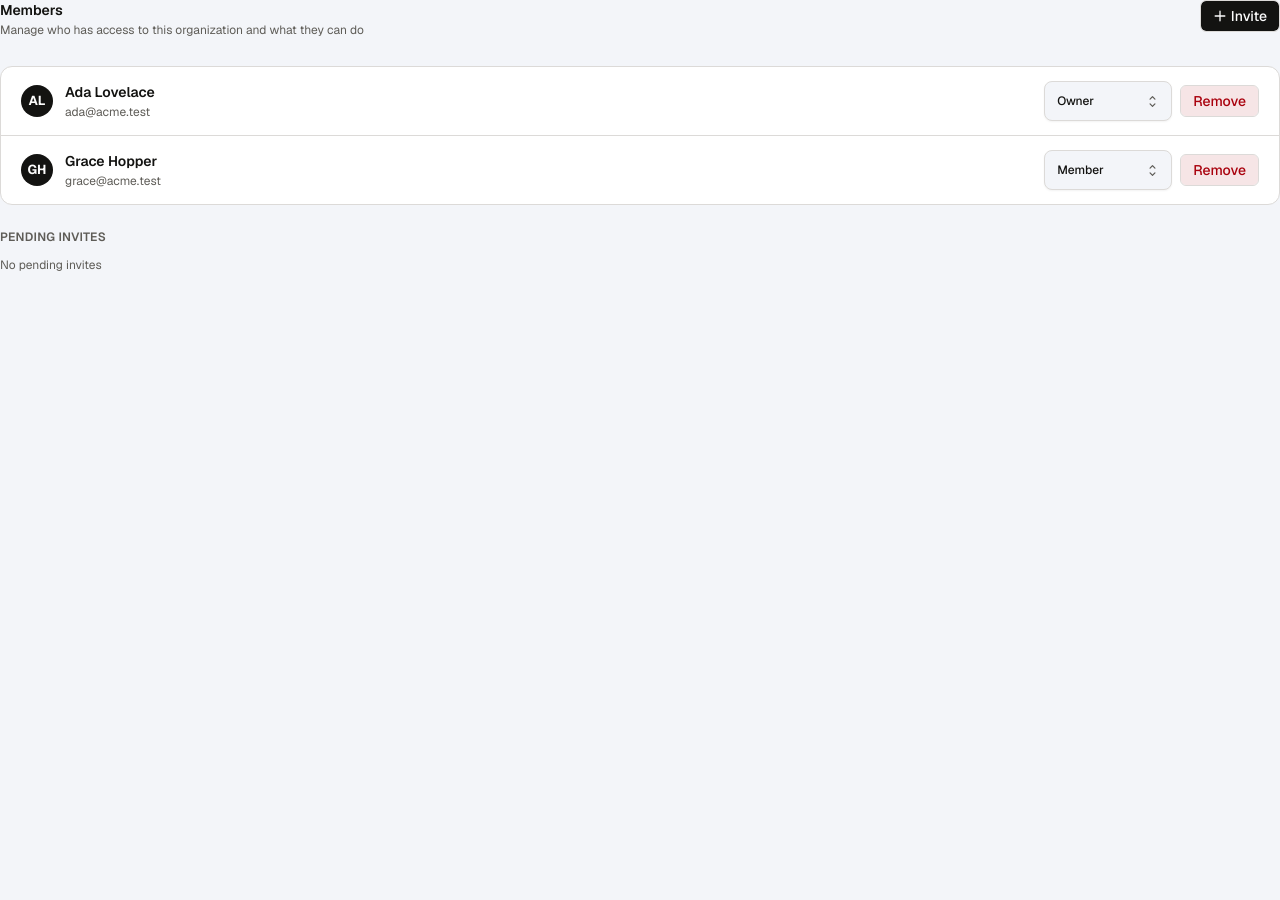
Test: MembersSettingsPanel › shows a clear message when removal is blocked by the last-owner rule
Click the button "Remove" in the row of "AL": [1220, 101] box x1=1180 y1=85 x2=1259 y2=117
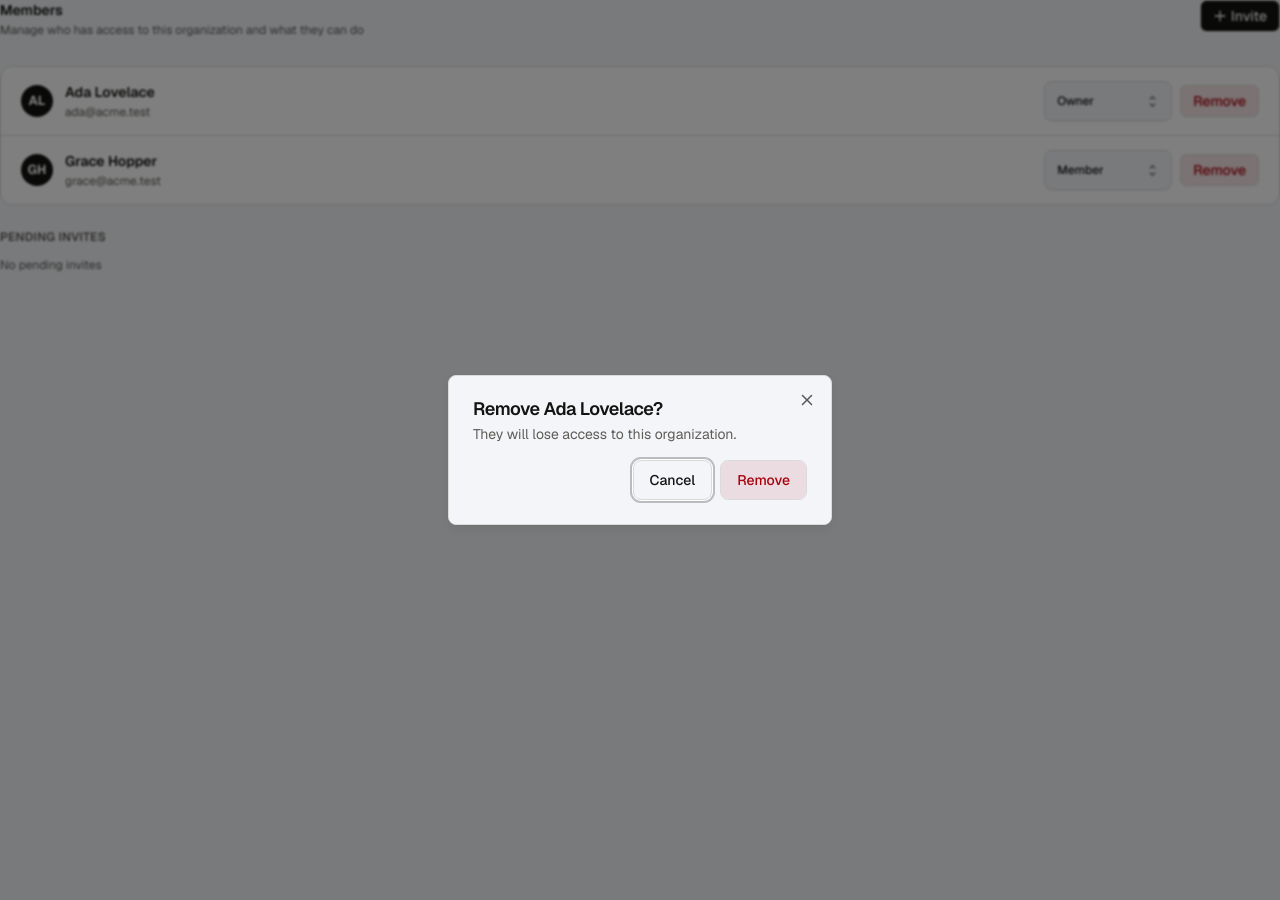
Click the button "Remove": [764, 480] box x1=720 y1=460 x2=807 y2=500
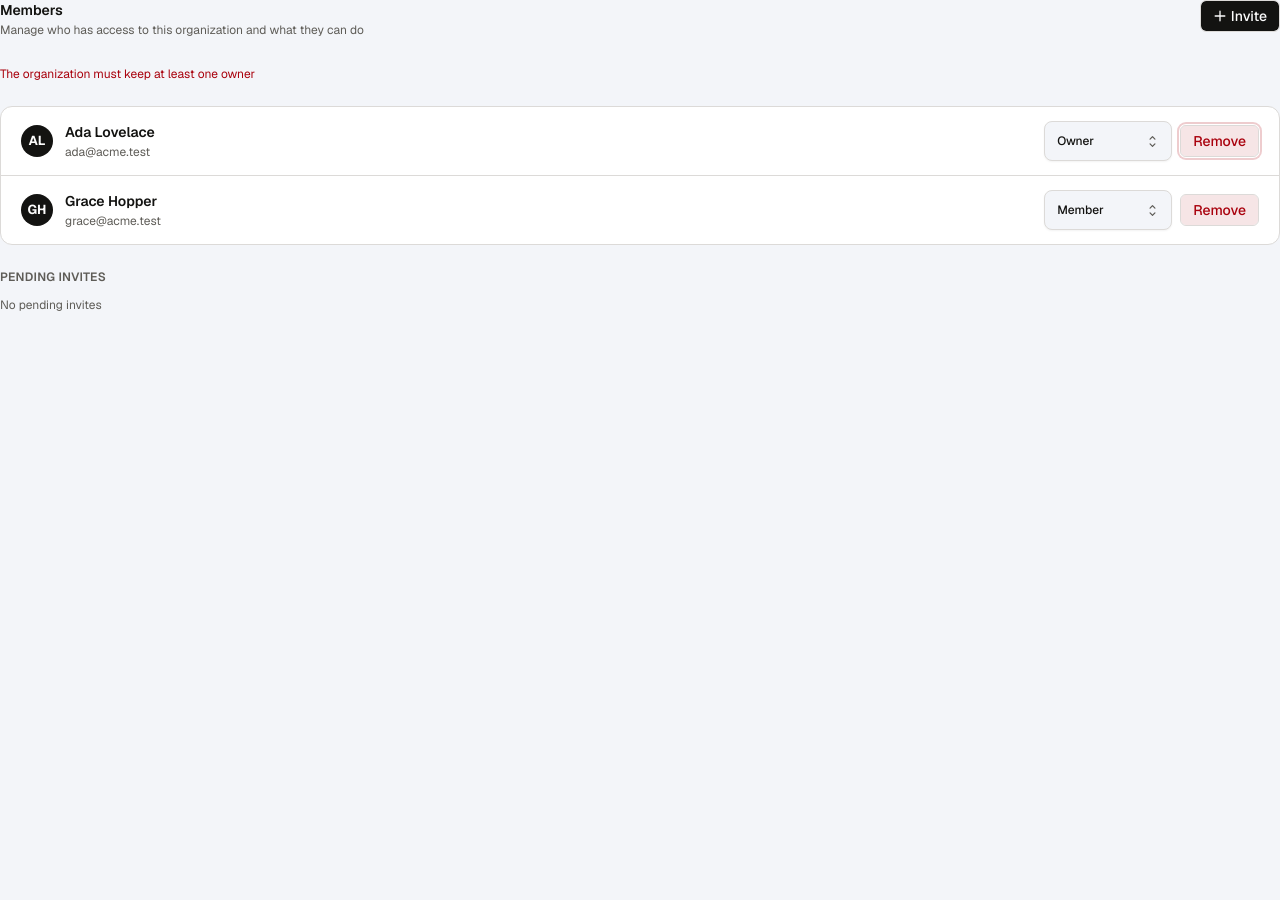
Now the text "The organization must keep at least one owner" is shown, box x1=0 y1=66 x2=255 y2=82
